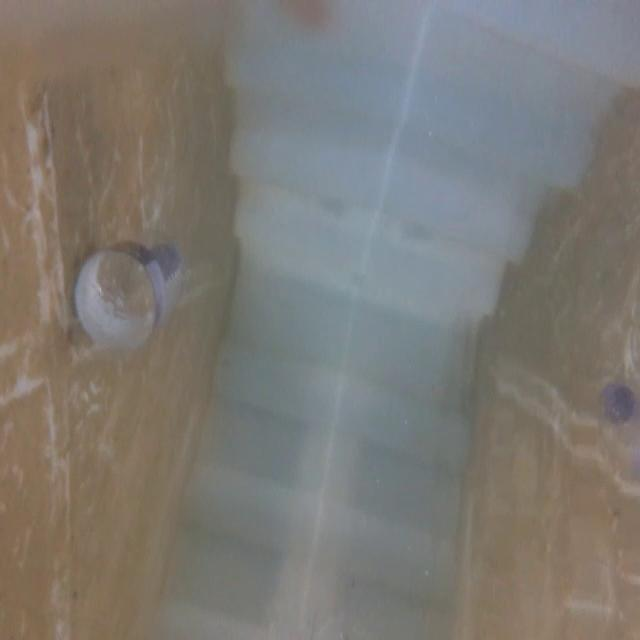plastic bottle: (68, 230, 206, 379)
